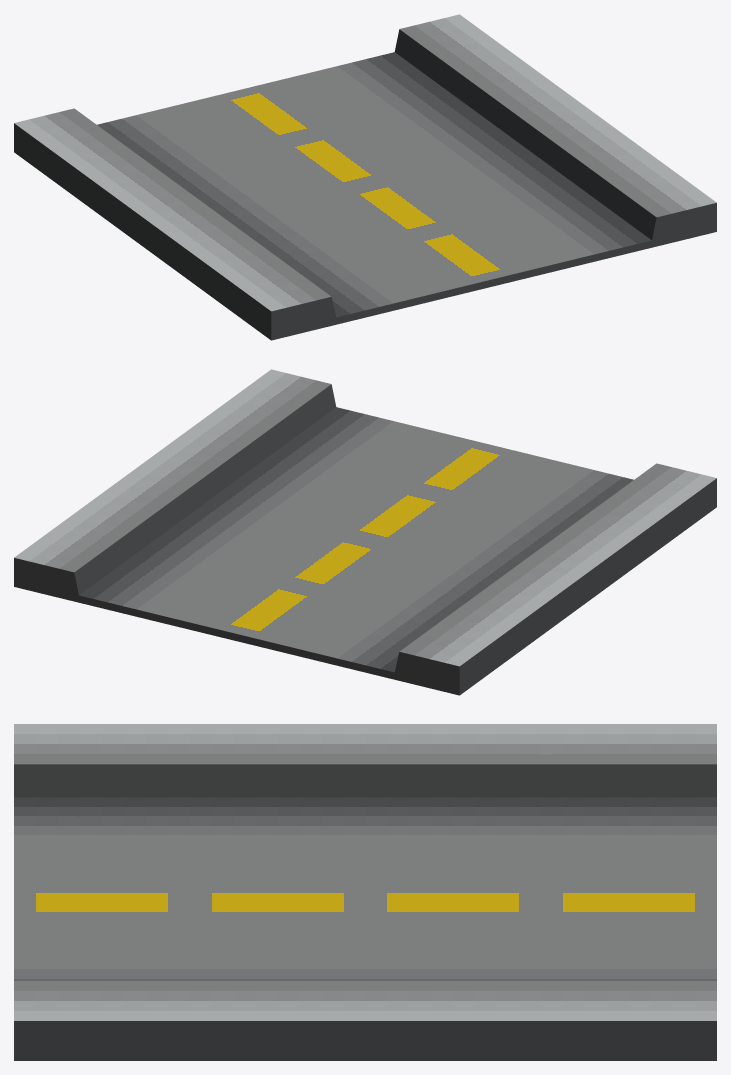
The model's file is road-straight.gltf.
3 renders of one model, top to bottom at view 1: azimuth 30°, elevation 25°; view 2: azimuth 150°, elevation 25°; view 3: azimuth 270°, elevation 25°, orthographic. The views are drawn at different scales.
Visible parts, largest first — view 1: road-col; view 2: road-col; view 3: road-col.
Boxes of the visible parts, x1=… form: road-col: x1=14, y1=14, x2=716, y2=340; road-col: x1=14, y1=369, x2=716, y2=695; road-col: x1=14, y1=724, x2=716, y2=1060.
Bounding box in the file's own units: 0.5 × 0.0312 × 0.5.
1 material, 1 textured.
